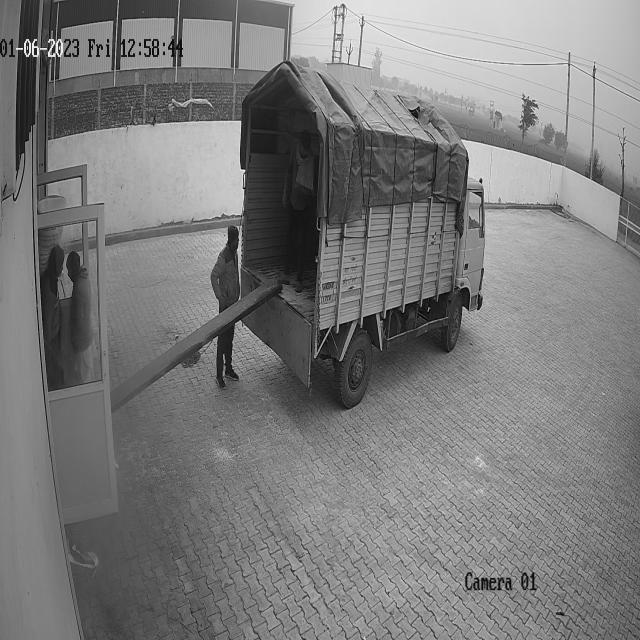sack: (37, 196, 66, 284)
